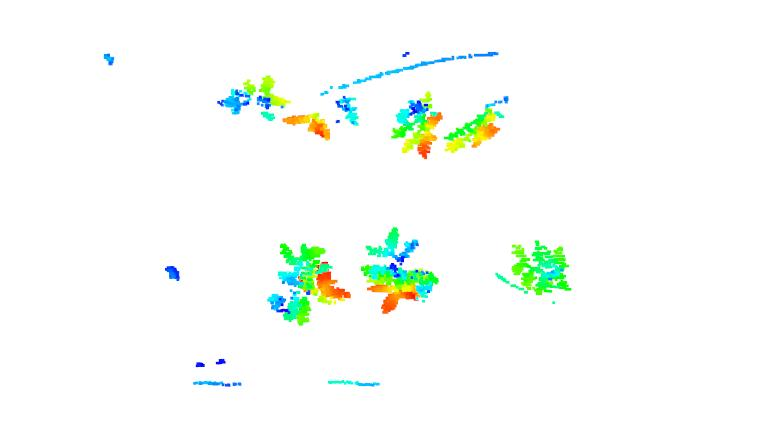chickpea: (265, 241, 354, 326), (360, 229, 439, 314), (441, 98, 509, 156), (510, 238, 574, 299), (281, 98, 360, 144), (391, 91, 443, 160), (216, 74, 288, 123)
